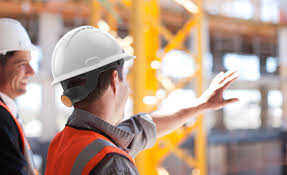Person_wearing_helmet: (49, 22, 132, 92), (0, 15, 37, 71)
